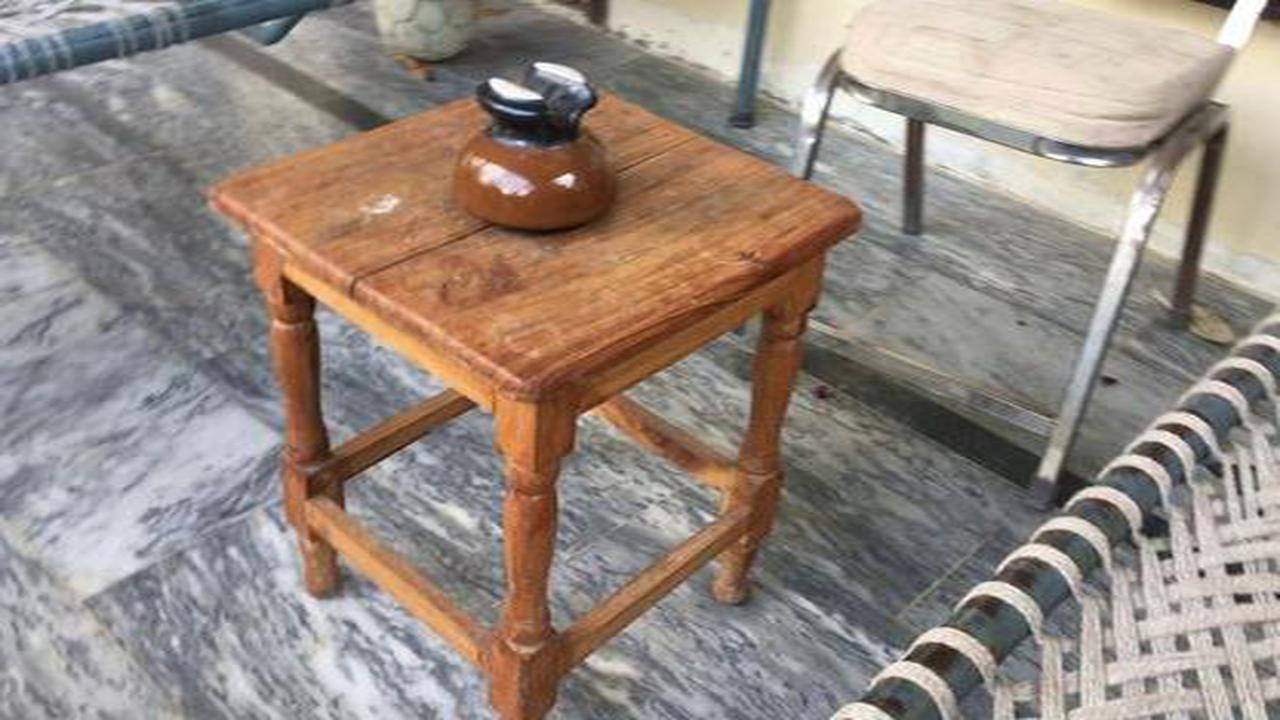insulator_pin: (437, 33, 631, 243)
